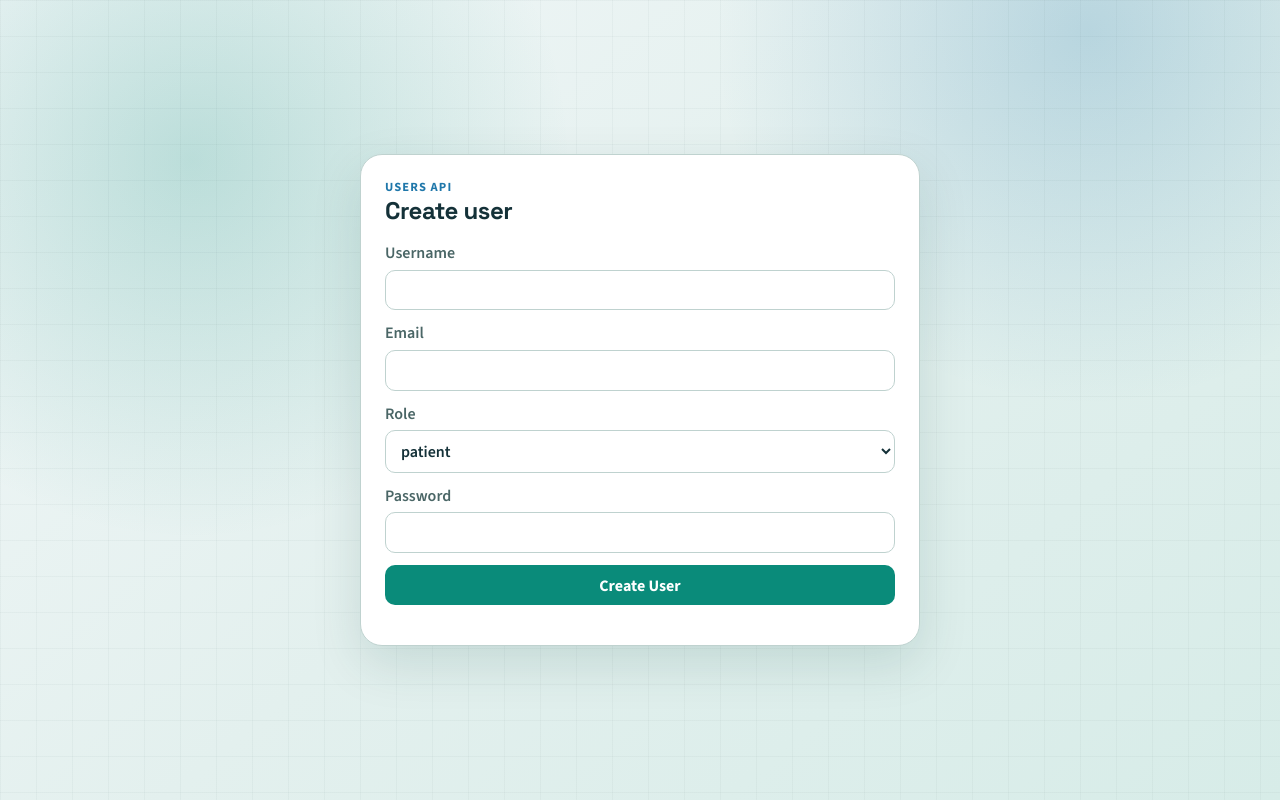
Test: app smoke flows › creates a user from public create form
In the field labelled "Username": (640, 290) x1=385 y1=270 x2=895 y2=310, type "newuser"
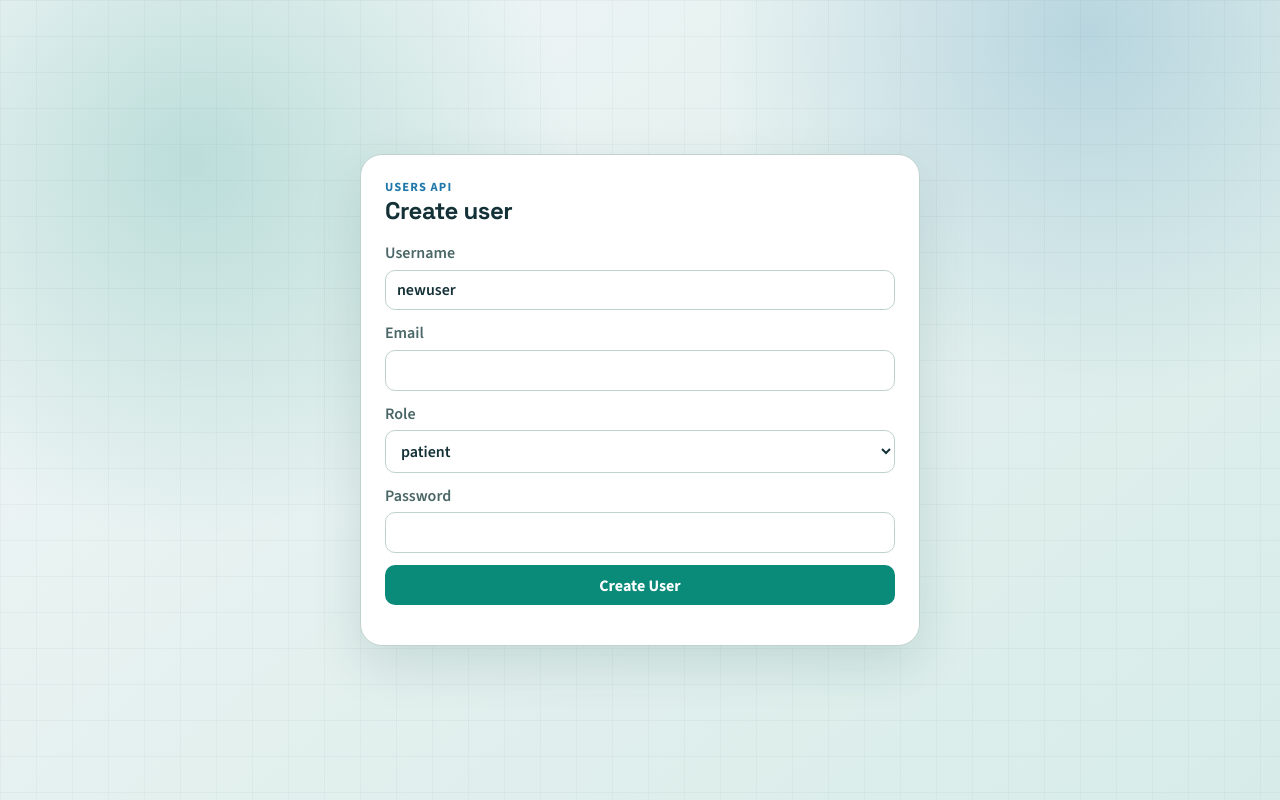
In the field labelled "Email": (640, 370) x1=385 y1=350 x2=895 y2=391, type "newuser@example.com"
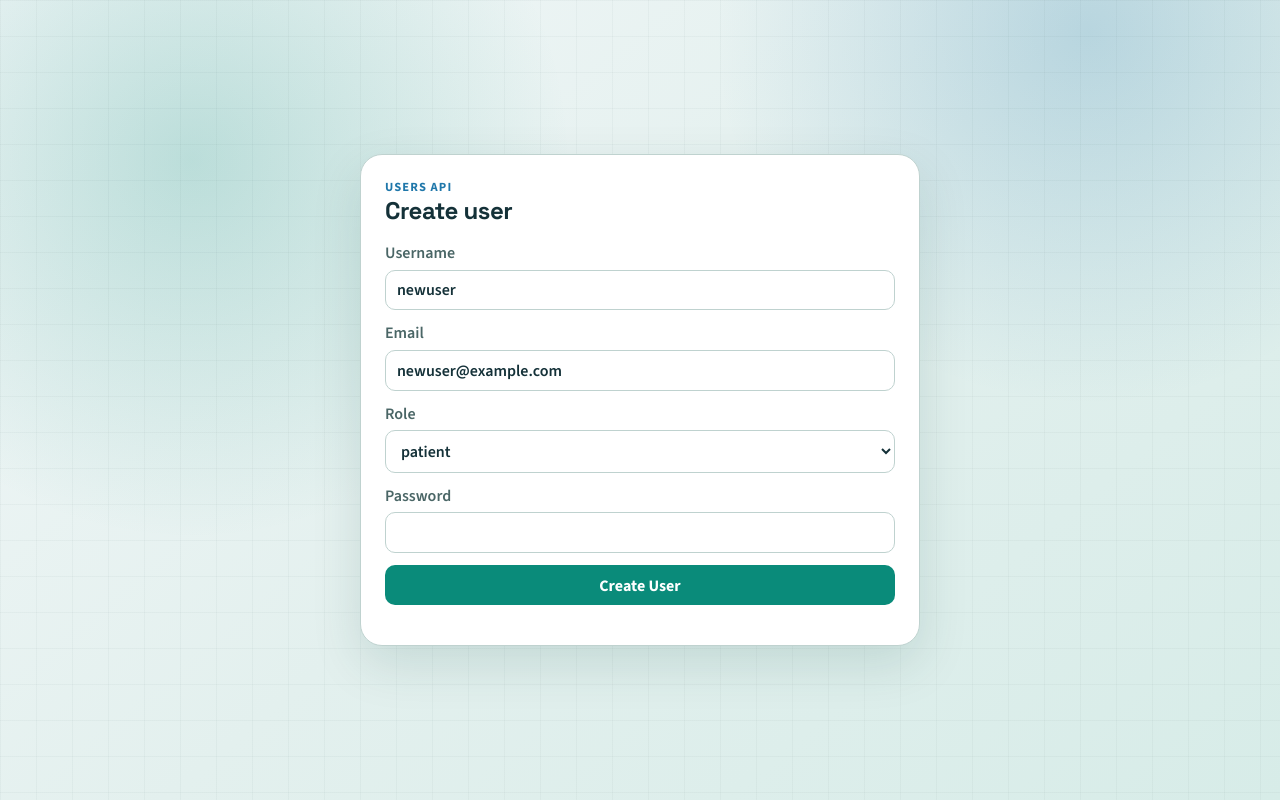
Select "patient" in the dropdown labelled "Role": (640, 452) x1=385 y1=430 x2=895 y2=473
In the password field labelled "Password": (640, 533) x1=385 y1=512 x2=895 y2=553, type "pass1234"
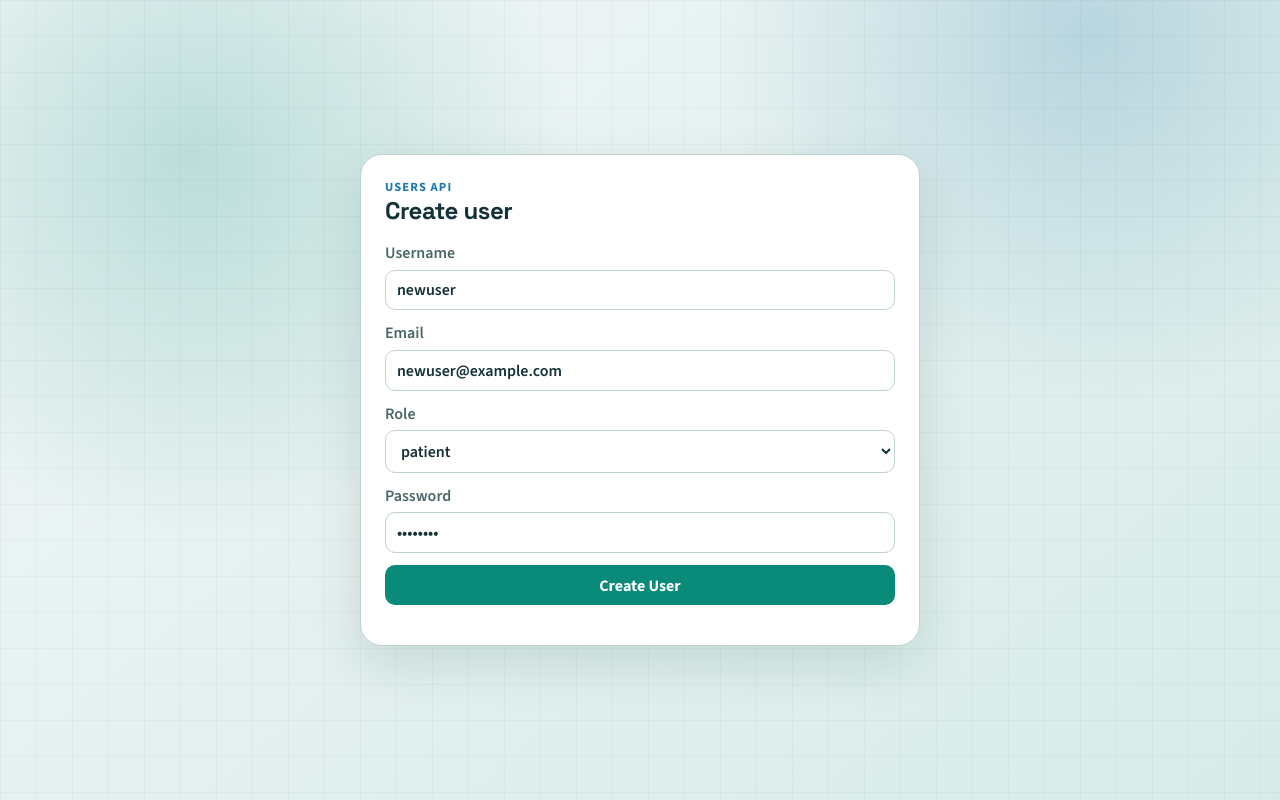
Click the button "Create User": (640, 585) x1=385 y1=565 x2=895 y2=605
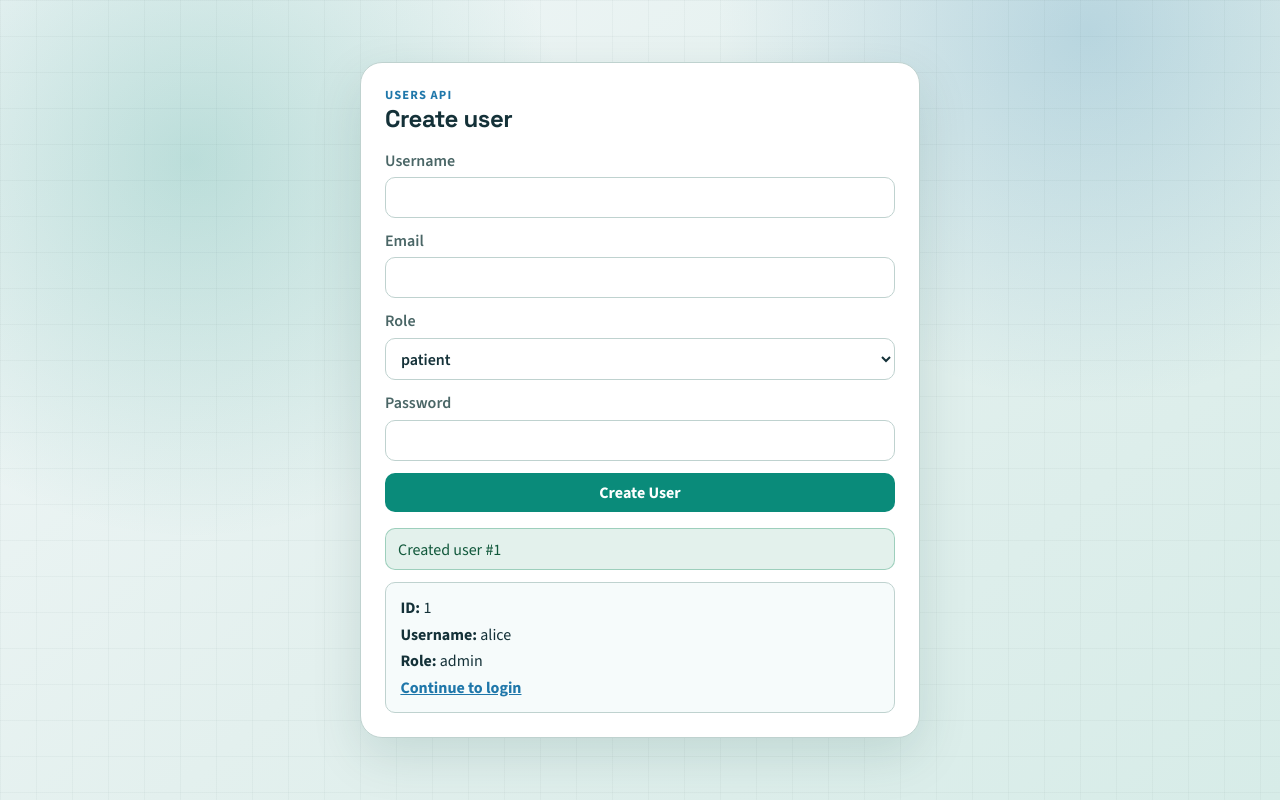
Result: the text "Created user #1" is shown at x1=385 y1=528 x2=895 y2=570
